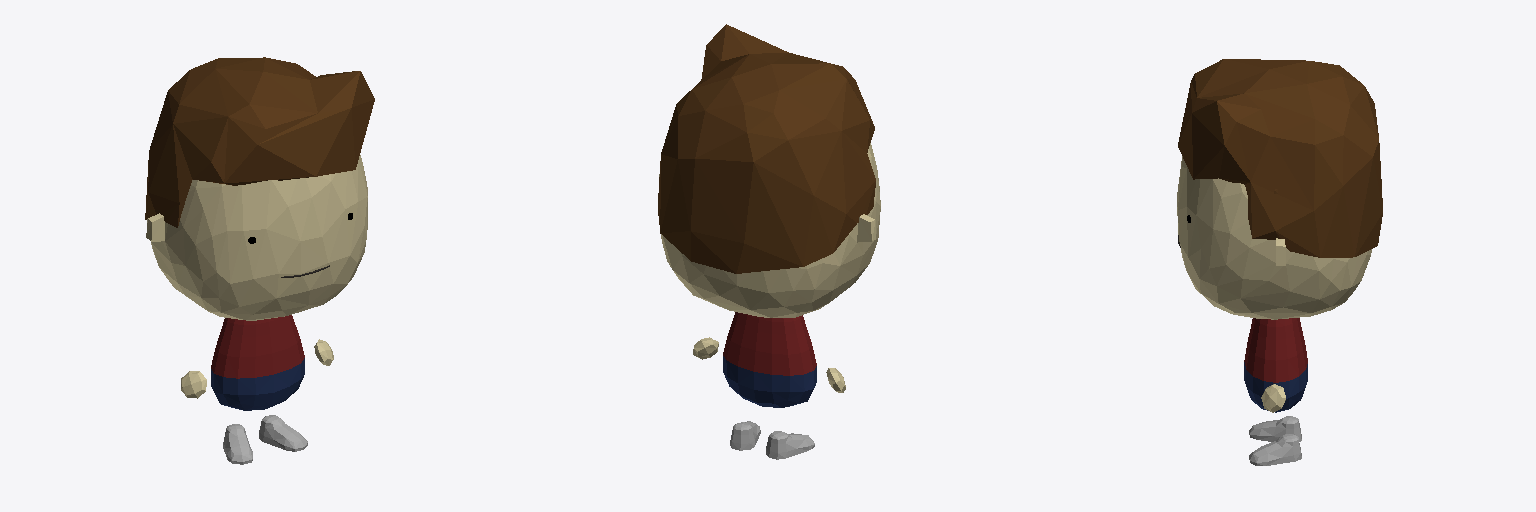
Rendered from MakerLab_Avatar_Test_Static_.obj.
3 renders of one model, left to right at view 1: azimuth 30°, elevation 25°; view 2: azimuth 150°, elevation 25°; view 3: azimuth 270°, elevation 25°, orthographic.
Visible parts, largest first — view 1: HEAD, HAIR_01, BODY_UPPER, BODY_LOWER, FOOT_L, FOOT_R, HAND_R; view 2: HAIR_01, HEAD, BODY_UPPER, BODY_LOWER, FOOT_R, FOOT_L; view 3: HAIR_01, HEAD, BODY_UPPER, BODY_LOWER, FOOT_L, FOOT_R.
Boxes of the visible parts, x1,y1,x2,y2 form: HEAD: [146, 155, 367, 320]; HAIR_01: [145, 57, 374, 227]; BODY_UPPER: [211, 315, 304, 378]; BODY_LOWER: [211, 358, 304, 410]; FOOT_L: [259, 415, 307, 451]; FOOT_R: [223, 424, 252, 464]; HAND_R: [181, 371, 206, 398]; HAIR_01: [658, 24, 875, 273]; HEAD: [659, 143, 880, 317]; BODY_UPPER: [723, 312, 816, 375]; BODY_LOWER: [723, 356, 816, 407]; FOOT_R: [766, 431, 814, 459]; FOOT_L: [730, 421, 760, 450]; HAIR_01: [1178, 59, 1382, 257]; HEAD: [1177, 156, 1371, 319]; BODY_UPPER: [1244, 318, 1307, 382]; BODY_LOWER: [1244, 362, 1307, 412]; FOOT_L: [1249, 434, 1301, 465]; FOOT_R: [1249, 416, 1301, 441].
Size of the model in its own units: 219 by 373 by 183.